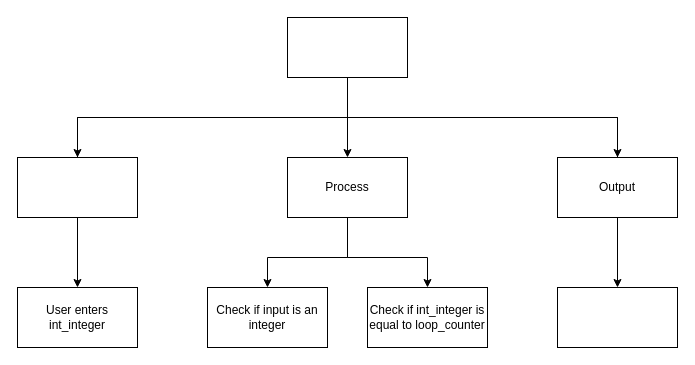
Some shapes in this 695 by 365 pixel diagram are drawn without their labels. Each missing label, with the centre of its shape:
Factorials: point (347, 47)
Input: point (77, 187)
Show factorial of int_integer: point (617, 317)
